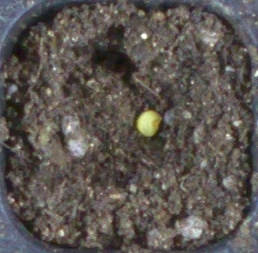pepper seed: (54, 40, 217, 179)
